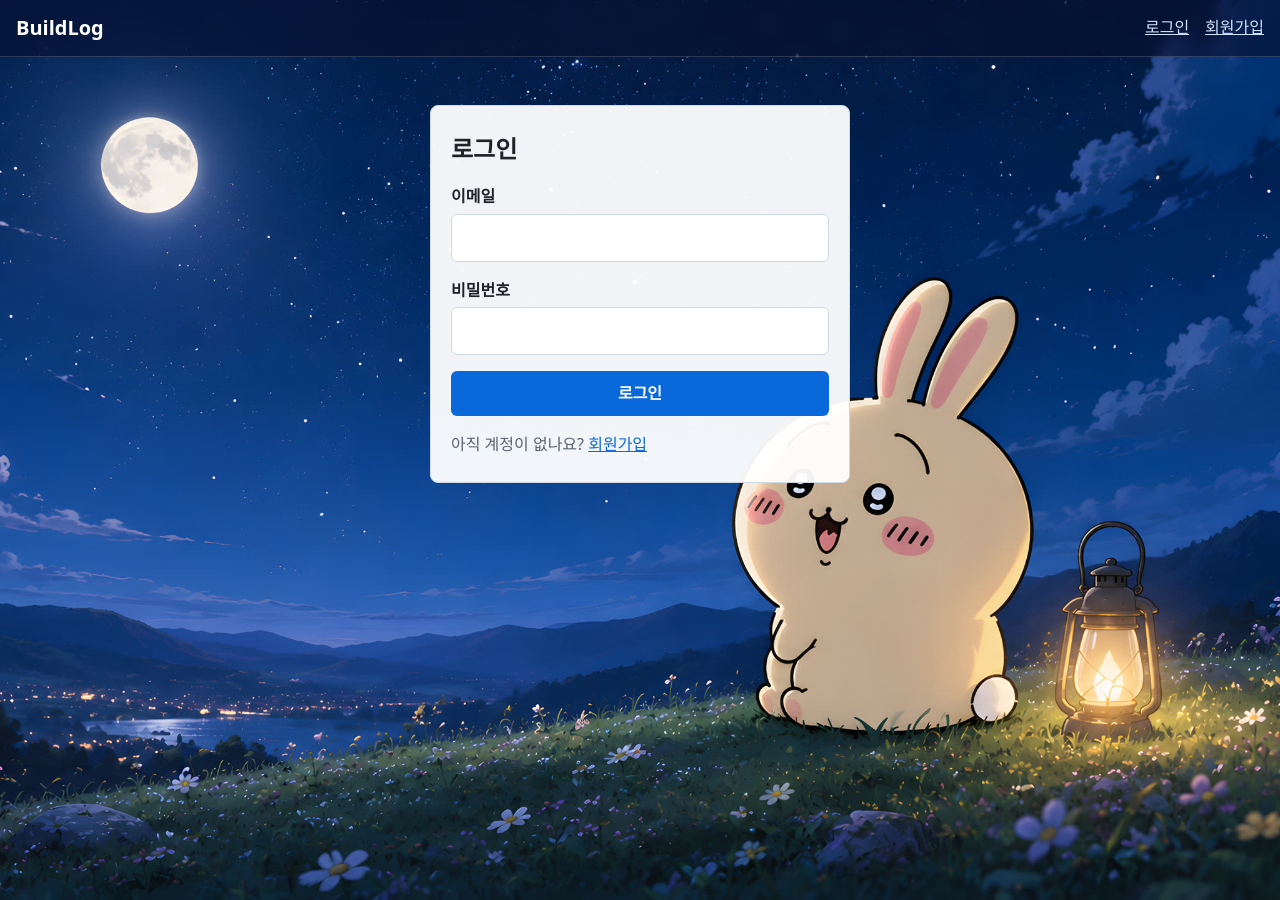
Scenario: 로그인 › 성공하면 내 기록 홈 화면으로 이동한다
Type "user@example.com" into the field labelled "이메일" at (640, 238), box [451,214,829,262]
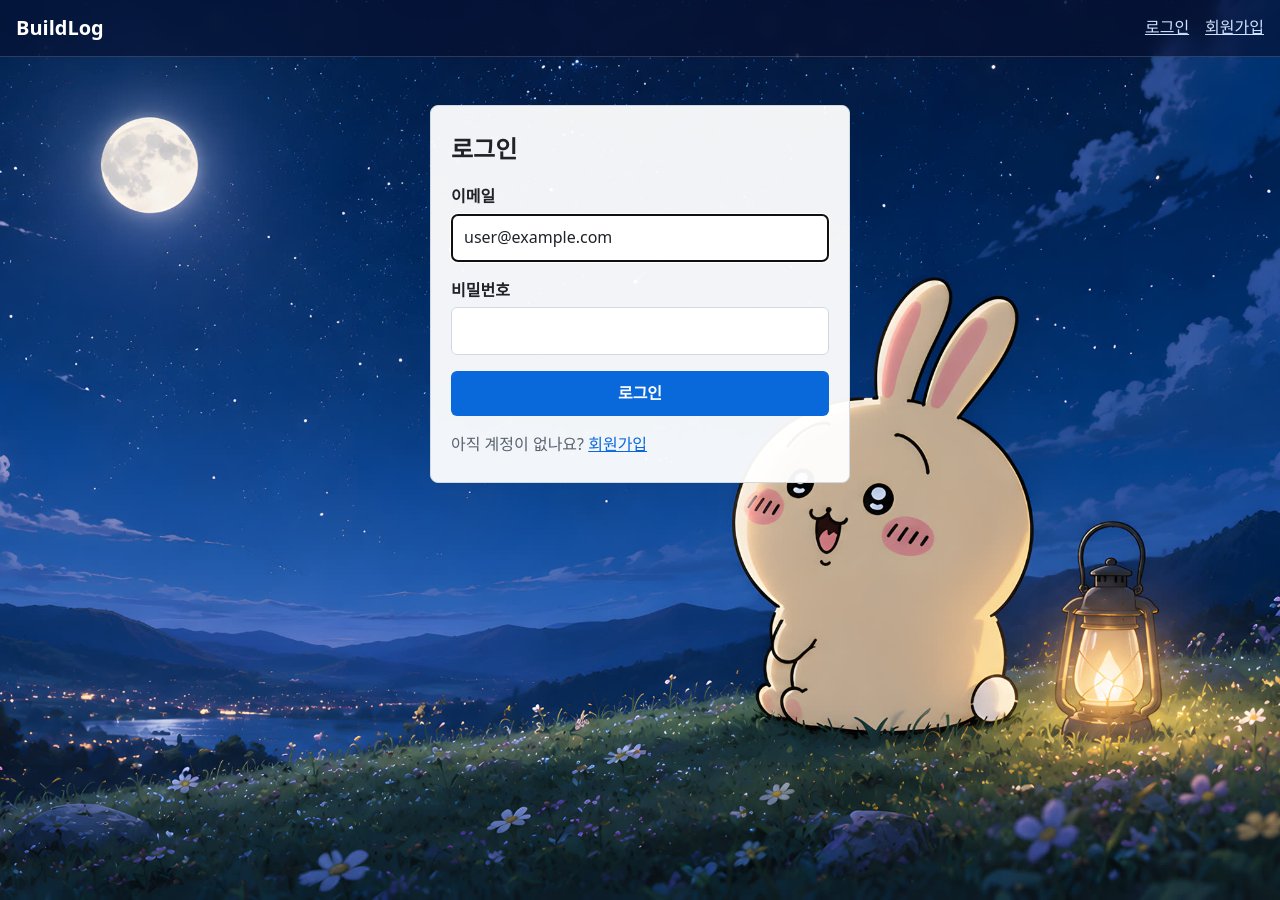
Type "password123" into the password field labelled "비밀번호" at (640, 331), box [451,307,829,355]
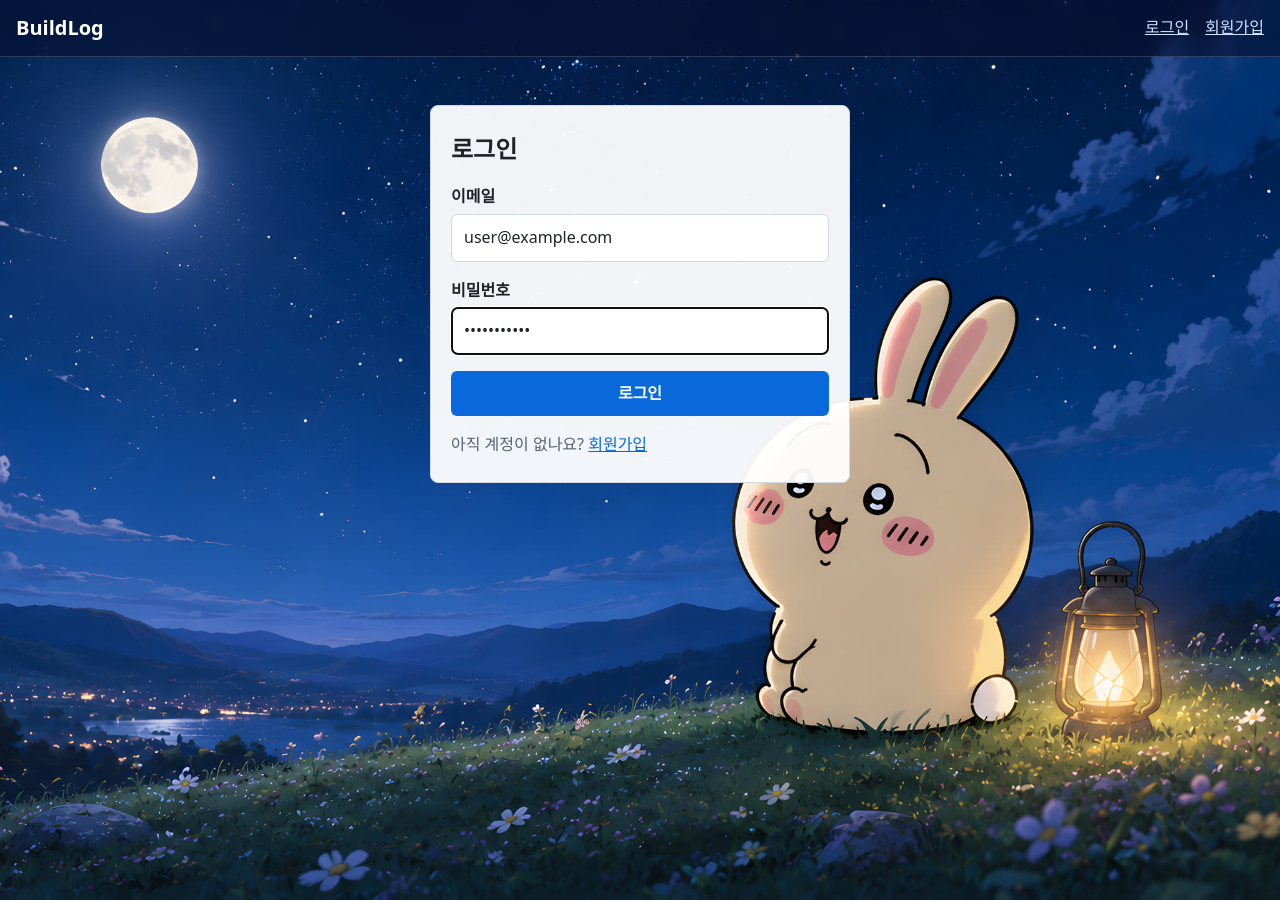
Click the button "로그인" at (640, 394), box [451,371,829,416]
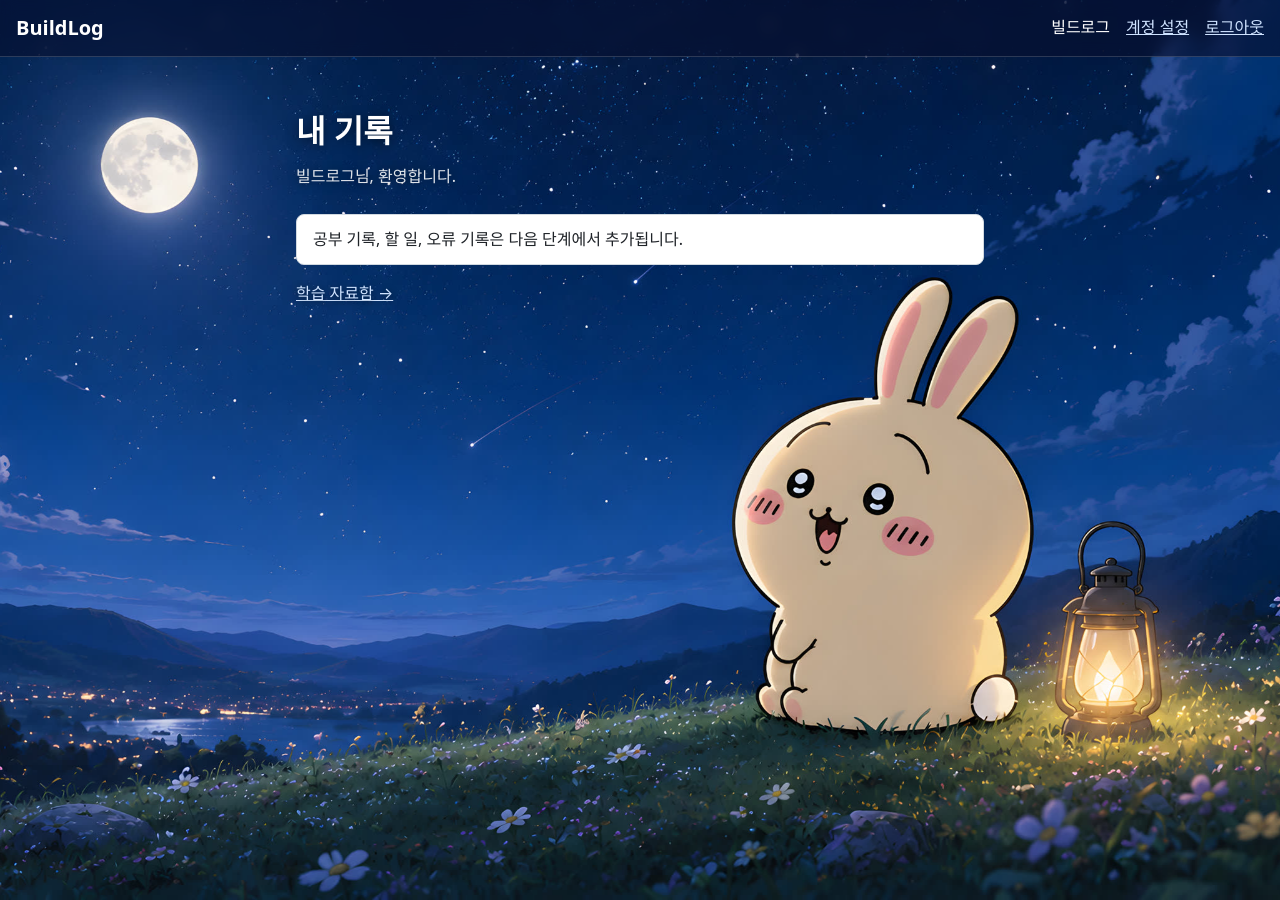
Result: the heading "내 기록" is shown at [296,109,393,152]
Result: the text "빌드로그님, 환영합니다." is shown at [296,165,456,187]
